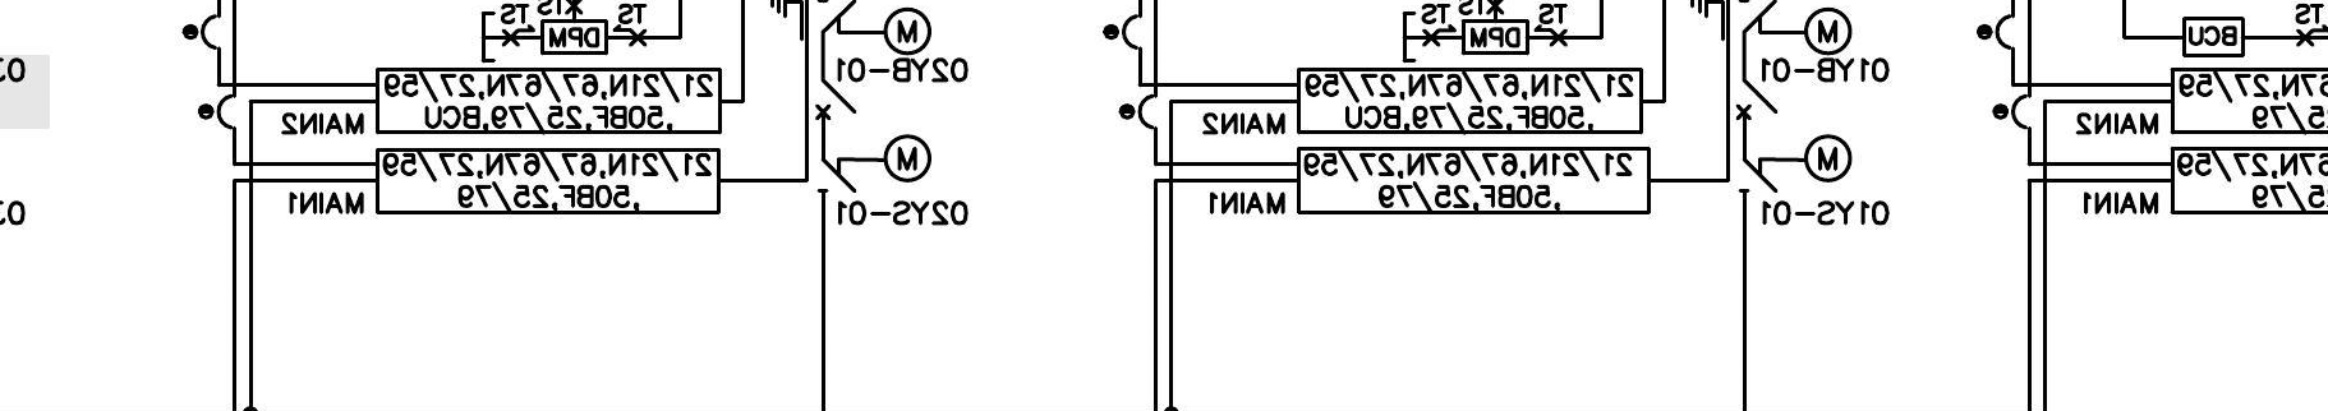115_1way_ds_w_motor: (817, 134, 932, 194), (1737, 134, 1853, 193)
115_breaker: (1736, 79, 1779, 120), (815, 79, 857, 120)
BCU: (2181, 16, 2246, 58)
DPM: (540, 19, 609, 56), (1461, 19, 1531, 55)
